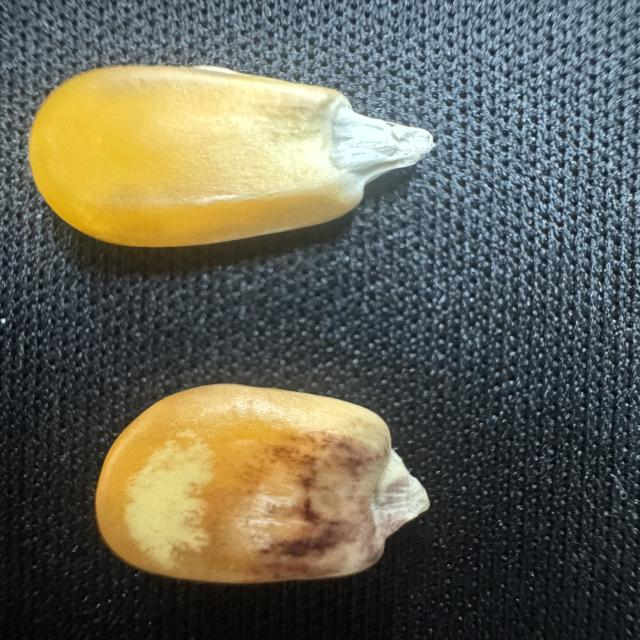Bad-Seed: (87, 380, 440, 590)
Good-Seed: (23, 62, 445, 249)
